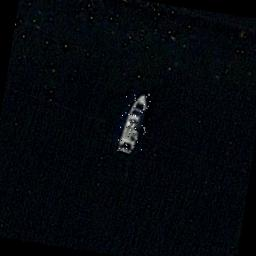boat: (116, 90, 152, 154)
